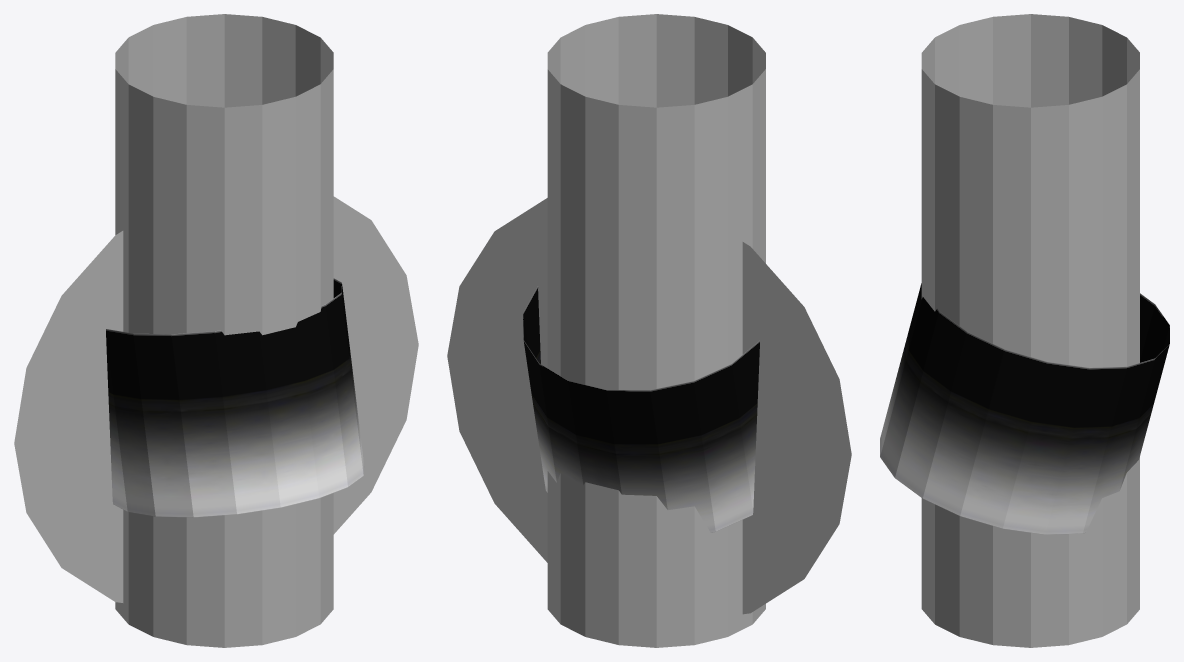
File: effect_xinglingjuexing_donghua #5262185.fbx
3 views of the same model, side by side, from view 1: azimuth 30°, elevation 25°; view 2: azimuth 150°, elevation 25°; view 3: azimuth 270°, elevation 25° (orthographic).
Visible parts, largest first — view 1: effect_yuan_103_mo_UP, effect_yuan_103_mo (1), effect_aolabeibei_baoqi_01; view 2: effect_yuan_103_mo_UP, effect_aolabeibei_baoqi_01, effect_yuan_103_mo (1); view 3: effect_yuan_103_mo_UP, effect_yuan_103_mo (1).
Part boxes in pixels (x1,y1,x2,y2): effect_yuan_103_mo_UP: (115,14,333,647); effect_yuan_103_mo (1): (106,278,364,517); effect_aolabeibei_baoqi_01: (14,196,418,602); effect_yuan_103_mo_UP: (547,14,765,647); effect_aolabeibei_baoqi_01: (447,198,851,614); effect_yuan_103_mo (1): (523,286,759,532); effect_yuan_103_mo_UP: (921,14,1139,647); effect_yuan_103_mo (1): (880,283,1169,534).
Size of the model in its own units: 4.71 by 6.08 by 2.92.
